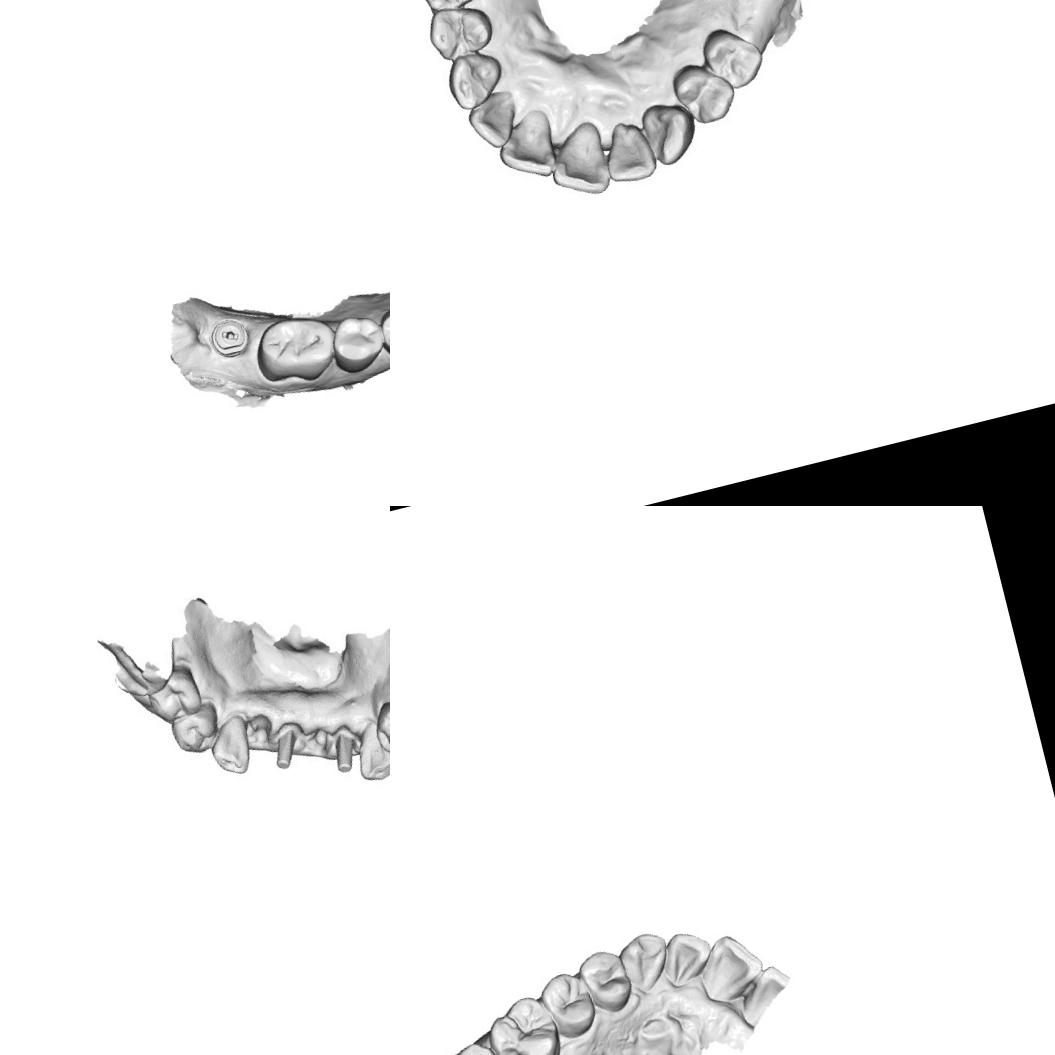abutment: (265, 717, 304, 781), (322, 724, 361, 782)
canine: (438, 46, 514, 114), (636, 95, 701, 168), (614, 926, 676, 998), (205, 719, 254, 779), (349, 721, 390, 786)
implant_minus: (205, 313, 253, 361)
incisor: (689, 926, 772, 1009), (540, 119, 617, 203), (488, 108, 562, 185), (654, 923, 720, 992), (598, 120, 658, 187), (461, 88, 522, 152)
molar: (246, 306, 345, 392), (478, 988, 571, 1055)
premolar: (531, 964, 604, 1045), (694, 20, 768, 96), (571, 939, 638, 1022), (666, 54, 736, 132), (323, 308, 390, 378), (427, 3, 496, 68), (145, 668, 204, 724), (168, 704, 218, 756), (367, 699, 390, 755), (413, 0, 490, 16), (375, 297, 390, 366)
